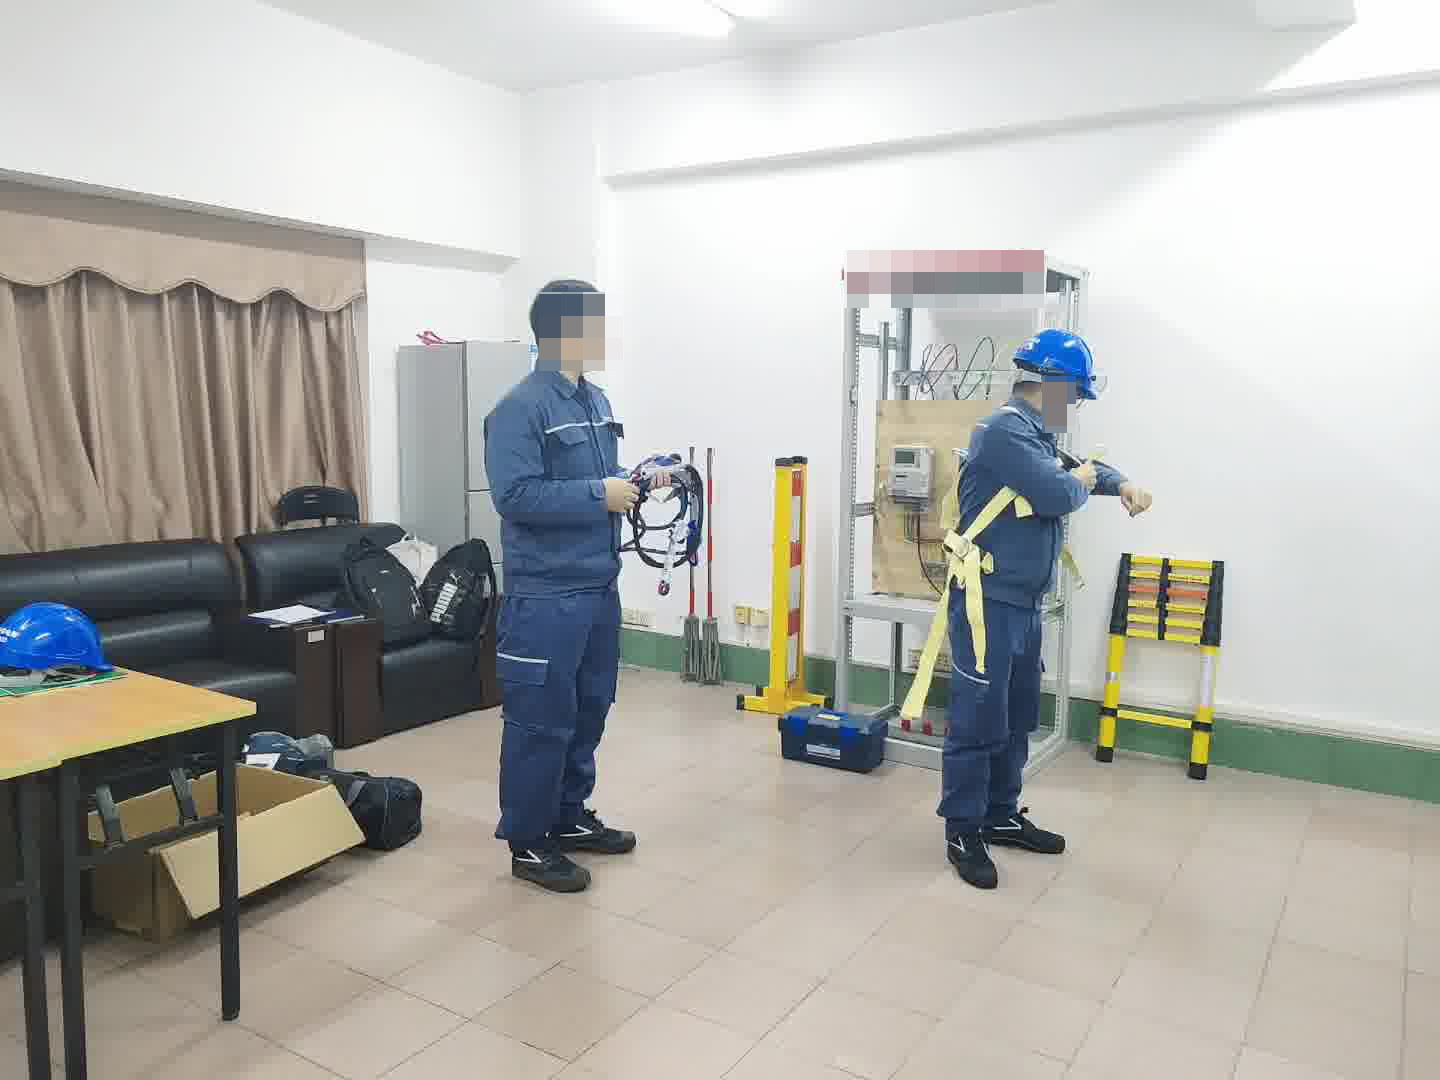downsuit: (492, 606, 623, 841), (940, 612, 1047, 825)
halt: (1013, 328, 1098, 417)
hand: (606, 478, 640, 517), (1118, 486, 1152, 517), (1071, 458, 1099, 495)
inear: (1037, 373, 1074, 417)
noear: (551, 321, 590, 362)
person: (474, 272, 652, 886), (929, 326, 1109, 868)
safebelt: (898, 462, 1077, 724)
unhalt: (527, 276, 614, 373)
upsuit: (481, 363, 635, 586), (959, 401, 1088, 600)
